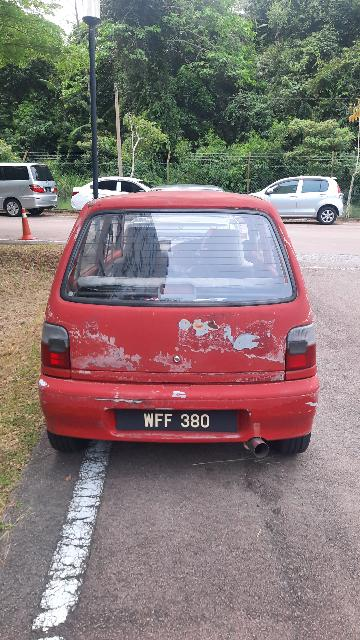License_Plate: (119, 411, 244, 438)
car: (35, 182, 326, 466)
